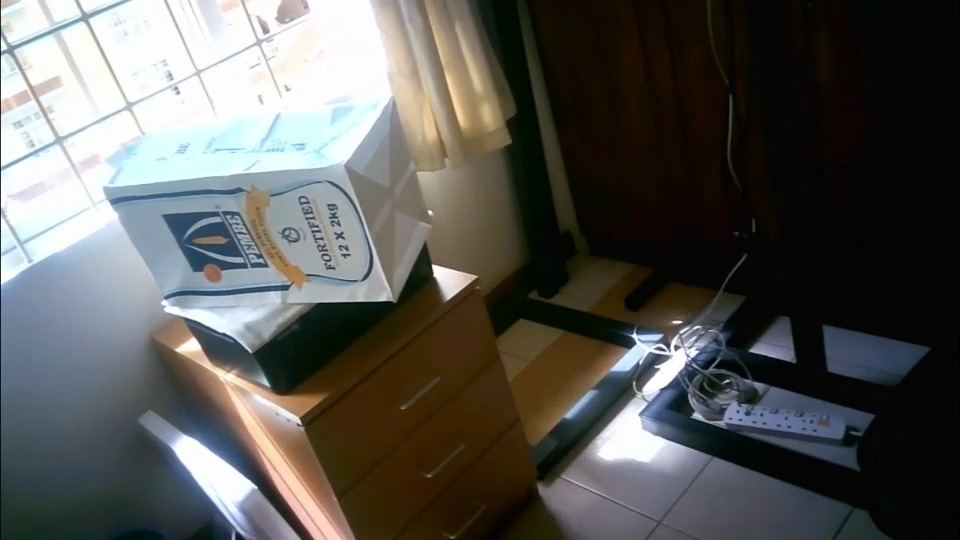wheat_flour_blue_label: (102, 95, 433, 303)
